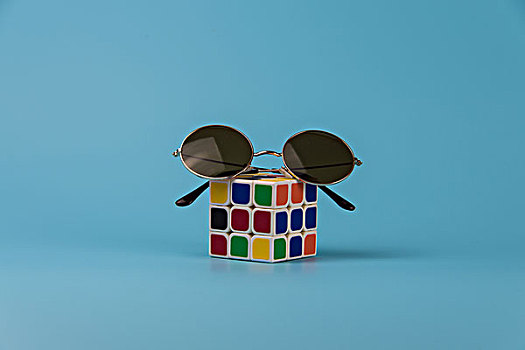cube: (204, 162, 324, 264)
